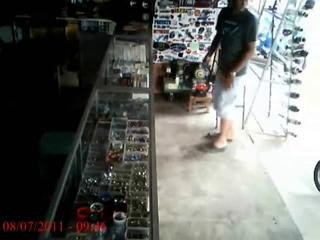Normal: (202, 0, 258, 150)
